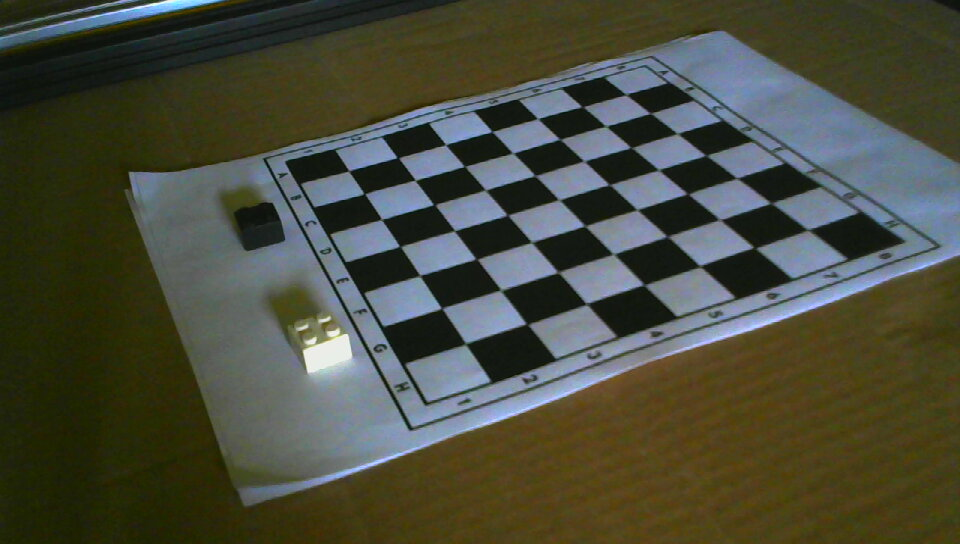bp: (231, 200, 285, 251)
wp: (283, 309, 351, 373)
